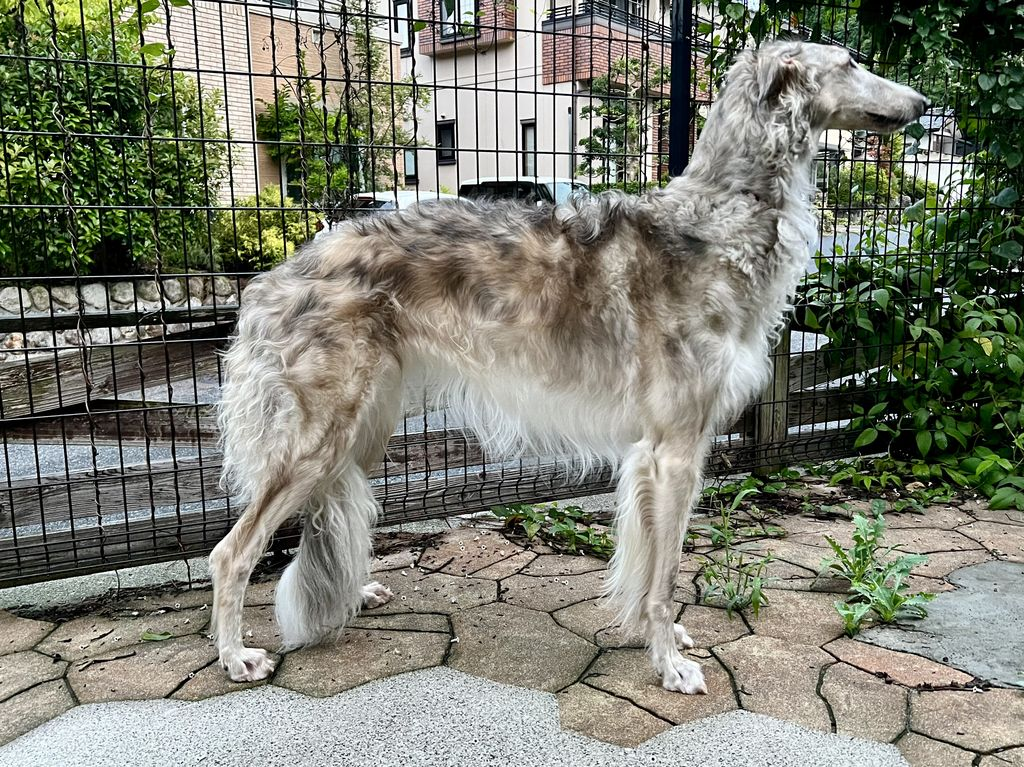borzoi: (163, 34, 963, 709)
